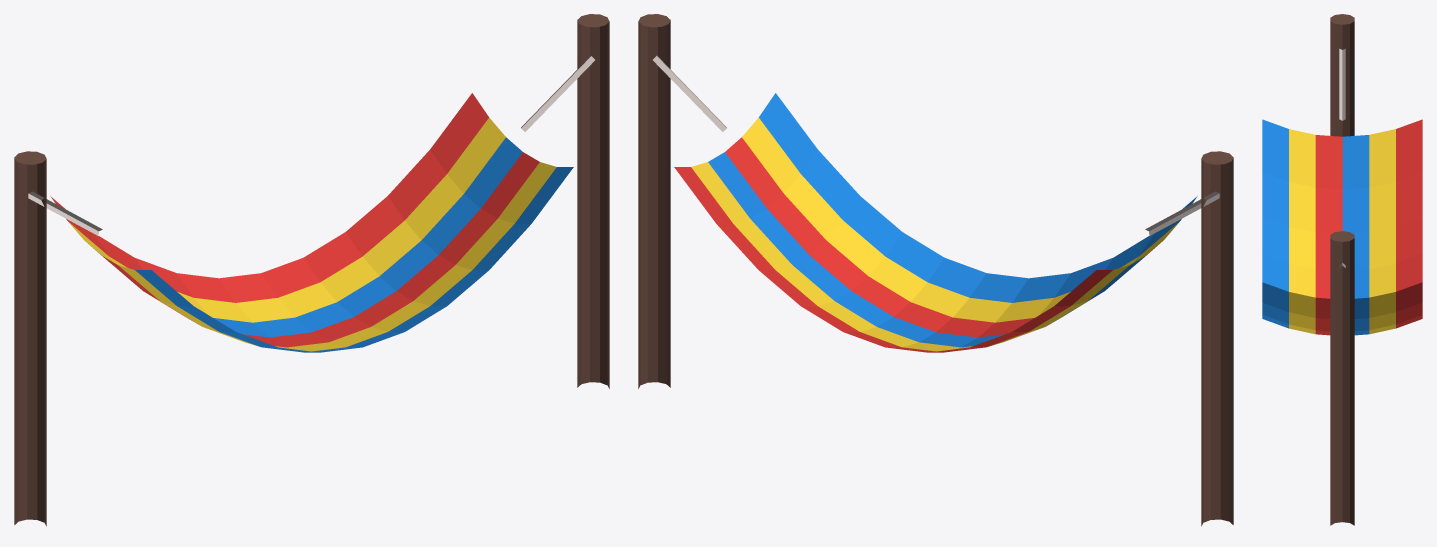
The model's file is hangmatta.glb.
3 renders of one model, left to right at view 1: azimuth 30°, elevation 25°; view 2: azimuth 150°, elevation 25°; view 3: azimuth 270°, elevation 25°, orthographic. The views are drawn at different scales.
Parts seen in each view (by area): view 1: hangmatta; view 2: hangmatta; view 3: hangmatta.
Part boxes in pixels (x1,y1,x2,y2): hangmatta: (14,14,609,526); hangmatta: (638,14,1233,526); hangmatta: (1262,14,1422,525).
Size of the model in its own units: 1.68 by 1 by 0.5.
